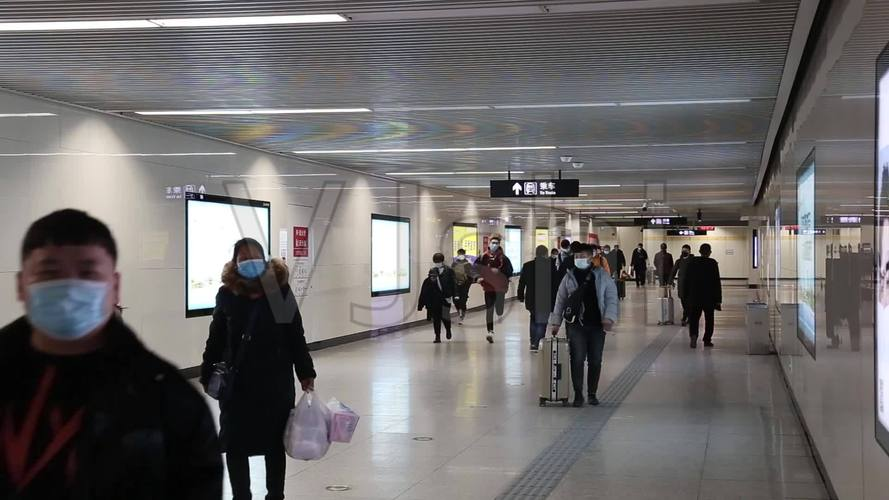mask: (25, 232, 122, 339), (233, 240, 272, 282), (573, 246, 594, 271)
